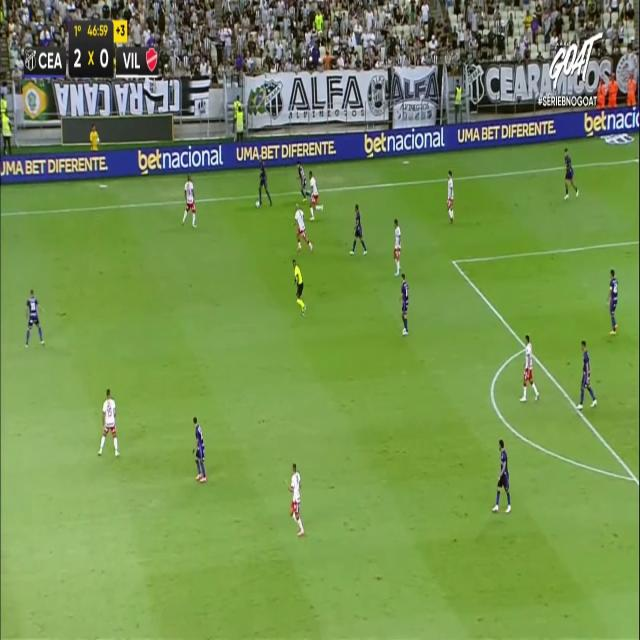ball: (255, 199, 260, 211)
player: (97, 387, 119, 457), (491, 438, 511, 513), (576, 339, 597, 409), (519, 333, 539, 401), (24, 288, 45, 348), (288, 462, 304, 535), (293, 202, 313, 252), (192, 416, 206, 482), (349, 204, 367, 255), (181, 173, 197, 228), (255, 157, 272, 207), (308, 170, 324, 220), (564, 147, 579, 199), (607, 268, 618, 334), (399, 273, 409, 334), (393, 218, 401, 276), (297, 161, 308, 201), (446, 170, 454, 223)
referee: (292, 258, 306, 316)
